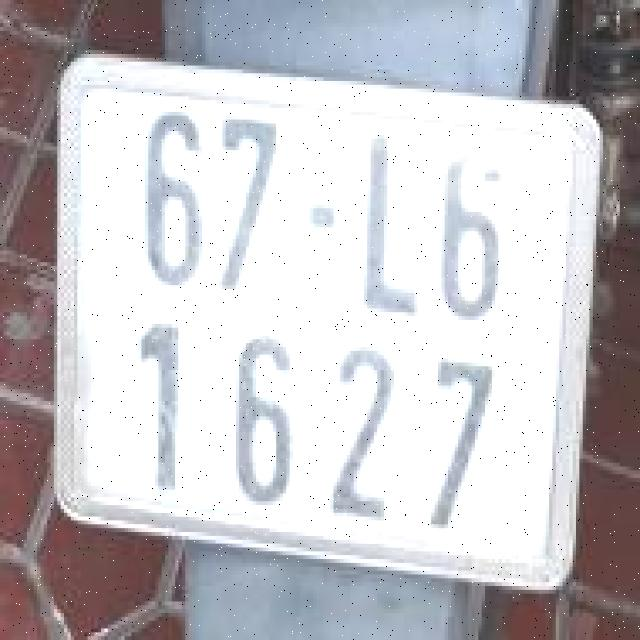1: (118, 314, 175, 507)
2: (320, 335, 397, 536)
6: (218, 324, 302, 516), (135, 91, 205, 291), (438, 140, 502, 330)
7: (209, 100, 293, 301), (423, 347, 493, 551)
L: (348, 117, 429, 326)
